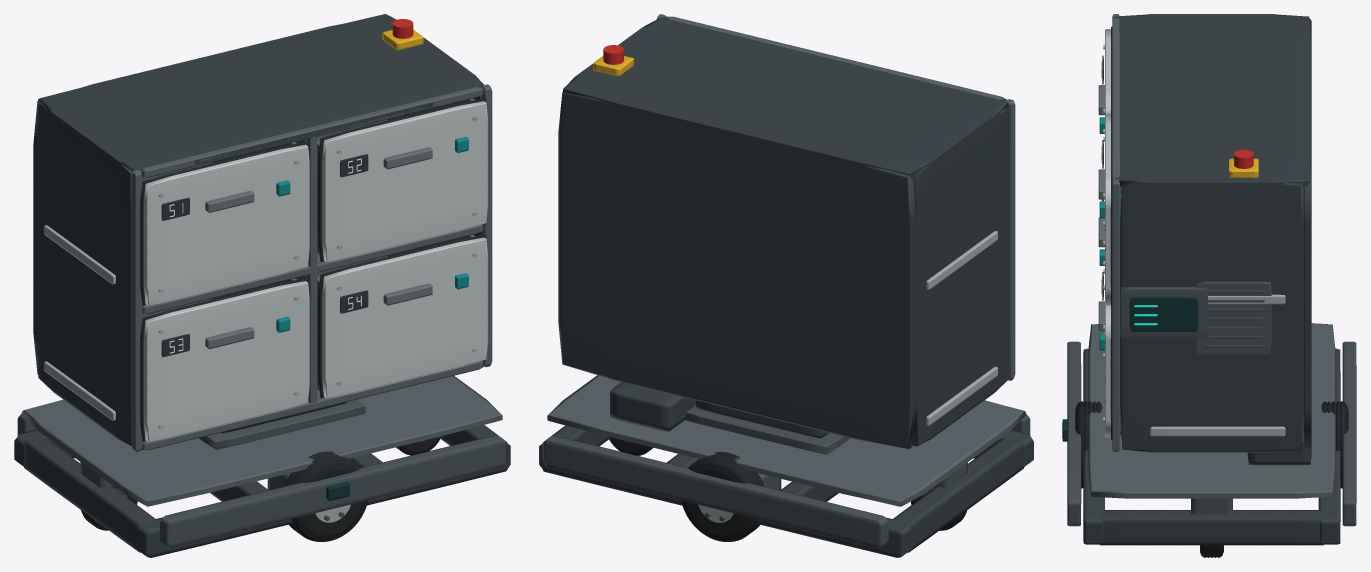
The model's file is robot_agv.glb.
The picture shows the model from 3 angles, left to right: view 1: azimuth 30°, elevation 25°; view 2: azimuth 150°, elevation 25°; view 3: azimuth 270°, elevation 25°; orthographic projection. The views are drawn at different scales.
Parts seen in each view (by area): view 1: AGV_toit_coffre, AGV_paroi_laterale_-0.49, AGV_plaque_superieure_chassis, AGV_S3_facade, AGV_S1_facade, AGV_S2_facade, AGV_S4_facade, AGV_pare_chocs_avant, AGV_traverse_chassis_1, AGV_traverse_face_1.06, AGV_roue_motrice_gauche, AGV_montant_face_-0.49 (+19 smaller); view 2: AGV_paroi_arriere, AGV_toit_coffre, AGV_paroi_laterale_-0.49, AGV_plaque_superieure_chassis, AGV_pare_chocs_arriere, AGV_traverse_chassis_1, AGV_roue_motrice_droite, AGV_coffret_controleur_hypothese, AGV_longeron_droite, AGV_support_batterie, AGV_montant_face_-0.49, AGV_traverse_face_1.06 (+4 smaller); view 3: AGV_paroi_laterale_0.49, AGV_toit_coffre, AGV_plaque_superieure_chassis, AGV_traverse_chassis_4, AGV_grille_ventilation_fond, AGV_paroi_arriere, AGV_pare_chocs_arriere, AGV_pare_chocs_avant, AGV_ecran_commande, AGV_support_afficheur, AGV_montant_face_0.49, AGV_longeron_droite (+13 smaller).
Part boxes in pixels (<box>): AGV_toit_coffre: <box>38,14,484,172</box>; AGV_paroi_laterale_-0.49: <box>38,104,132,445</box>; AGV_plaque_superieure_chassis: <box>22,376,502,506</box>; AGV_S3_facade: <box>143,281,309,441</box>; AGV_S1_facade: <box>143,144,309,305</box>; AGV_S2_facade: <box>322,101,488,261</box>; AGV_S4_facade: <box>322,237,488,398</box>; AGV_pare_chocs_avant: <box>160,435,507,547</box>; AGV_traverse_chassis_1: <box>24,438,155,552</box>; AGV_traverse_face_1.06: <box>141,86,484,177</box>; AGV_roue_motrice_gauche: <box>284,451,367,541</box>; AGV_montant_face_-0.49: <box>131,169,142,452</box>; AGV_paroi_arriere: <box>558,92,916,449</box>; AGV_toit_coffre: <box>563,16,1008,178</box>; AGV_paroi_laterale_-0.49: <box>912,106,1010,446</box>; AGV_plaque_superieure_chassis: <box>547,375,1025,506</box>; AGV_pare_chocs_arriere: <box>542,435,888,547</box>; AGV_traverse_chassis_1: <box>893,438,1024,552</box>; AGV_roue_motrice_droite: <box>681,452,764,541</box>; AGV_coffret_controleur_hypothese: <box>610,382,695,431</box>; AGV_longeron_droite: <box>539,444,912,557</box>; AGV_support_batterie: <box>685,405,850,454</box>; AGV_montant_face_-0.49: <box>1006,99,1015,380</box>; AGV_traverse_face_1.06: <box>668,16,1006,99</box>; AGV_paroi_laterale_0.49: <box>1120,179,1303,452</box>; AGV_toit_coffre: <box>1114,14,1311,187</box>; AGV_plaque_superieure_chassis: <box>1088,323,1335,498</box>; AGV_traverse_chassis_4: <box>1099,510,1323,545</box>; AGV_grille_ventilation_fond: <box>1196,281,1271,354</box>; AGV_paroi_arriere: <box>1303,19,1311,447</box>; AGV_pare_chocs_arriere: <box>1342,341,1356,526</box>; AGV_pare_chocs_avant: <box>1067,341,1081,526</box>; AGV_ecran_commande: <box>1130,297,1197,331</box>; AGV_support_afficheur: <box>1120,287,1207,338</box>; AGV_montant_face_0.49: <box>1112,179,1119,452</box>; AGV_longeron_droite: <box>1318,348,1340,544</box>.
Bounding box in the file's own units: 1.03 × 1.12 × 0.737.
